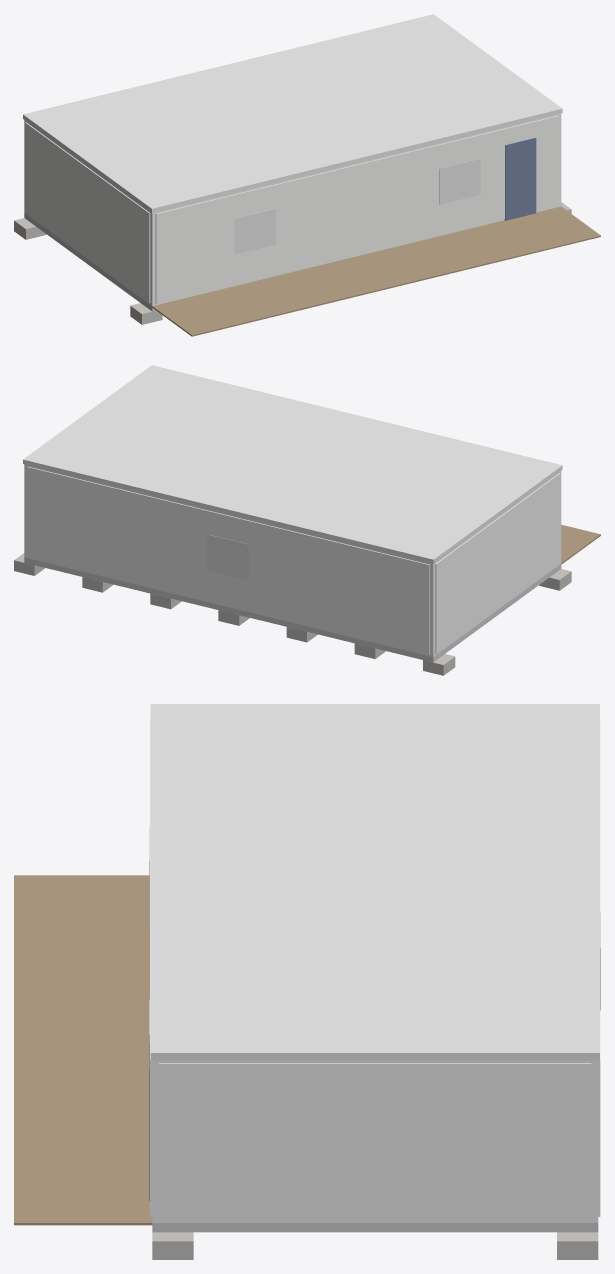
The model's file is Studio-40-TerraceDeck-LOD2.glb.
The picture shows the model from 3 angles, top to bottom: view 1: azimuth 30°, elevation 25°; view 2: azimuth 150°, elevation 25°; view 3: azimuth 270°, elevation 25°; orthographic projection. The views are drawn at different scales.
Visible parts, largest first — view 1: RoofMain, ExteriorPanelsStandard, TerraceDeck, WindowsStandard, ExteriorShell, EntryDoor, FoundationBlocks, BaseFrame; view 2: RoofMain, ExteriorPanelsStandard, BaseFrame, ExteriorShell, FoundationBlocks, WindowsStandard, TerraceDeck; view 3: RoofMain, ExteriorPanelsStandard, TerraceDeck, ExteriorShell, BaseFrame, FoundationBlocks.
Boxes of the visible parts, <box> form: RoofMain: <box>23,14,562,212</box>; ExteriorPanelsStandard: <box>25,115,558,303</box>; TerraceDeck: <box>152,206,600,336</box>; WindowsStandard: <box>234,158,480,254</box>; ExteriorShell: <box>24,113,561,305</box>; EntryDoor: <box>504,137,536,220</box>; FoundationBlocks: <box>14,202,571,324</box>; BaseFrame: <box>24,213,155,311</box>; RoofMain: <box>23,365,562,563</box>; ExteriorPanelsStandard: <box>27,466,560,654</box>; BaseFrame: <box>24,557,561,662</box>; ExteriorShell: <box>24,464,561,656</box>; FoundationBlocks: <box>14,553,571,675</box>; WindowsStandard: <box>207,534,248,580</box>; TerraceDeck: <box>561,524,600,564</box>; RoofMain: <box>150,704,599,1060</box>; ExteriorPanelsStandard: <box>150,718,600,1220</box>; TerraceDeck: <box>14,875,152,1225</box>; ExteriorShell: <box>152,1060,598,1222</box>; BaseFrame: <box>152,1223,598,1232</box>; FoundationBlocks: <box>152,1232,598,1259</box>.
Bounding box in the file's own units: 12.49 × 3.17 × 8.49.
